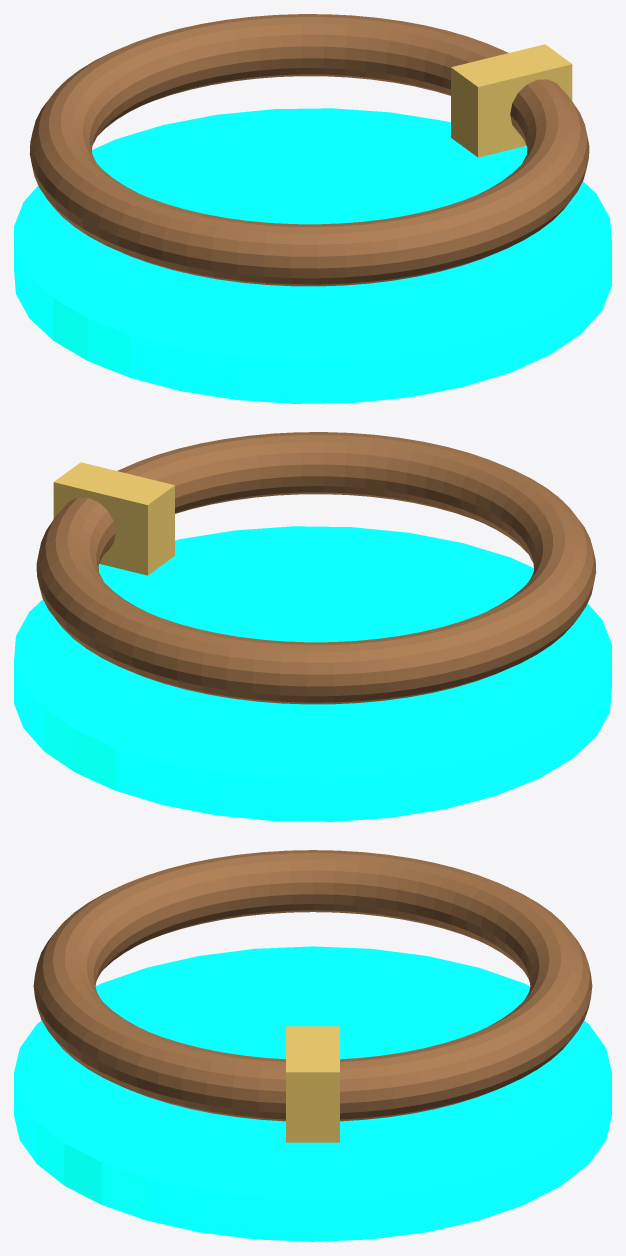
Rendered from fashion_belt.glb.
3 views of the same model, one above another, from view 1: azimuth 30°, elevation 25°; view 2: azimuth 150°, elevation 25°; view 3: azimuth 270°, elevation 25° (orthographic).
Visible parts, largest first — view 1: 06_10_Popular_Fashion_Belt_ROOT_base, 06_10_Popular_Fashion_Belt_part_01, 06_10_Popular_Fashion_Belt_part_02; view 2: 06_10_Popular_Fashion_Belt_ROOT_base, 06_10_Popular_Fashion_Belt_part_01, 06_10_Popular_Fashion_Belt_part_02; view 3: 06_10_Popular_Fashion_Belt_ROOT_base, 06_10_Popular_Fashion_Belt_part_01, 06_10_Popular_Fashion_Belt_part_02.
Boxes of the visible parts, <box> form: 06_10_Popular_Fashion_Belt_ROOT_base: <box>14,108,611,403</box>; 06_10_Popular_Fashion_Belt_part_01: <box>29,14,589,286</box>; 06_10_Popular_Fashion_Belt_part_02: <box>451,44,572,157</box>; 06_10_Popular_Fashion_Belt_ROOT_base: <box>14,526,611,821</box>; 06_10_Popular_Fashion_Belt_part_01: <box>36,432,596,704</box>; 06_10_Popular_Fashion_Belt_part_02: <box>53,462,174,575</box>; 06_10_Popular_Fashion_Belt_ROOT_base: <box>14,946,611,1241</box>; 06_10_Popular_Fashion_Belt_part_01: <box>33,850,592,1121</box>; 06_10_Popular_Fashion_Belt_part_02: <box>286,1026,339,1142</box>.
Size of the model in its own units: 0.76 by 0.2286 by 0.76.
